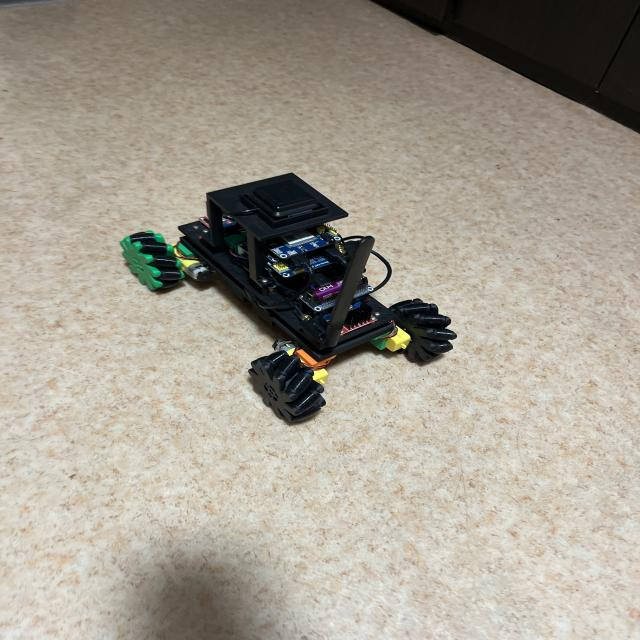robot: (121, 173, 457, 422)
